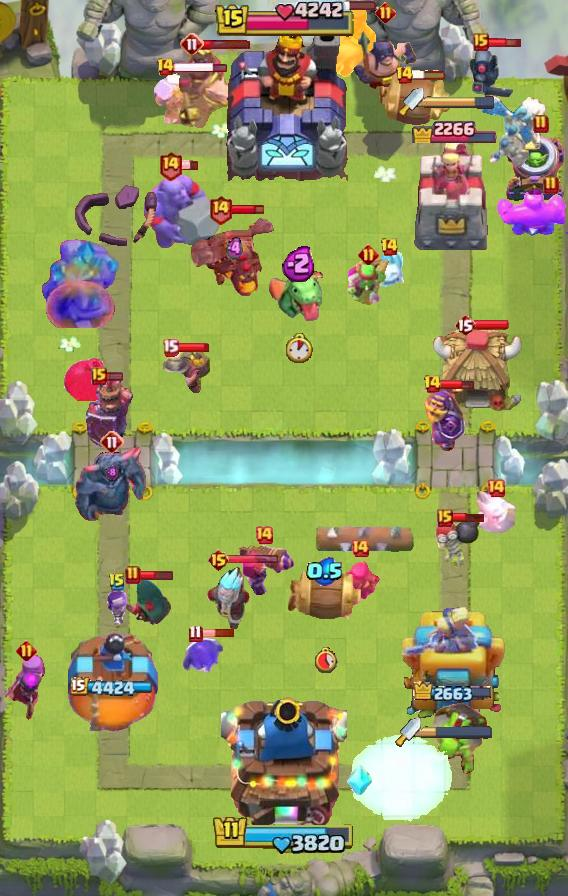archer-evolution: (340, 553, 380, 607)
bandit: (124, 579, 172, 625)
bar: (173, 61, 228, 74), (227, 554, 279, 565), (201, 39, 251, 50), (439, 378, 475, 391), (230, 203, 265, 216), (487, 36, 522, 49), (474, 319, 510, 331), (411, 69, 447, 81), (139, 569, 174, 581), (450, 512, 486, 523), (341, 0, 377, 11), (176, 342, 210, 353), (200, 628, 235, 638), (105, 371, 124, 382), (180, 160, 199, 171)
bar-level: (208, 194, 233, 225), (158, 150, 183, 181), (100, 430, 124, 454), (180, 32, 204, 56), (207, 548, 230, 572), (454, 313, 476, 337), (16, 640, 37, 661), (358, 244, 379, 265), (375, 2, 396, 23), (350, 538, 370, 558), (254, 525, 274, 545), (486, 478, 506, 498), (423, 374, 442, 394), (380, 237, 399, 257), (395, 65, 414, 85), (156, 57, 175, 77), (108, 572, 126, 592), (162, 338, 179, 357), (125, 565, 141, 585), (543, 175, 559, 195), (533, 114, 549, 134), (437, 509, 453, 527), (91, 367, 107, 385), (473, 33, 489, 51), (188, 624, 203, 643)
barbarian-barrel: (285, 566, 365, 626), (375, 73, 455, 127)
bomb: (63, 356, 109, 401)
bomber: (430, 514, 482, 568)
clock: (286, 333, 313, 363), (313, 646, 338, 673)
dagger-duchess-tower: (399, 607, 507, 731), (412, 140, 494, 256)
dagger-duchess-tower-bar: (421, 725, 493, 739), (424, 95, 496, 109)
electro-spirit: (183, 636, 225, 676)
elixir: (282, 244, 317, 282), (306, 557, 344, 586), (226, 236, 243, 262), (106, 465, 118, 480)
elixir-golem-mid: (496, 189, 568, 239)
executioner: (351, 26, 419, 96)
firecracker-evolution: (230, 540, 298, 596)
goblin-ball: (430, 698, 490, 774)
ice-spirit: (474, 487, 518, 533), (368, 251, 410, 297)
ice-spirit-evolution-symbol: (346, 765, 372, 797)
ice-wizard: (200, 564, 262, 632)
king-tower: (219, 21, 349, 181), (221, 690, 347, 826)
king-tower-bar: (212, 814, 356, 856), (214, 0, 355, 40)
knight-evolution: (423, 382, 465, 452)
lumberjack: (152, 72, 206, 126)
miner: (159, 346, 211, 398)
mini-pekka: (466, 47, 516, 101)
mortar-evolution: (504, 134, 568, 204)
mother-witch: (1, 653, 51, 723)
queen-tower: (68, 633, 160, 731)
ram-rider: (318, 3, 378, 79)
skeleton-evolution: (102, 589, 133, 625)
spear-goblin: (344, 255, 392, 305)
the-log: (311, 521, 415, 555)
tower-bar: (409, 114, 497, 143), (413, 681, 494, 705), (71, 677, 157, 699)
